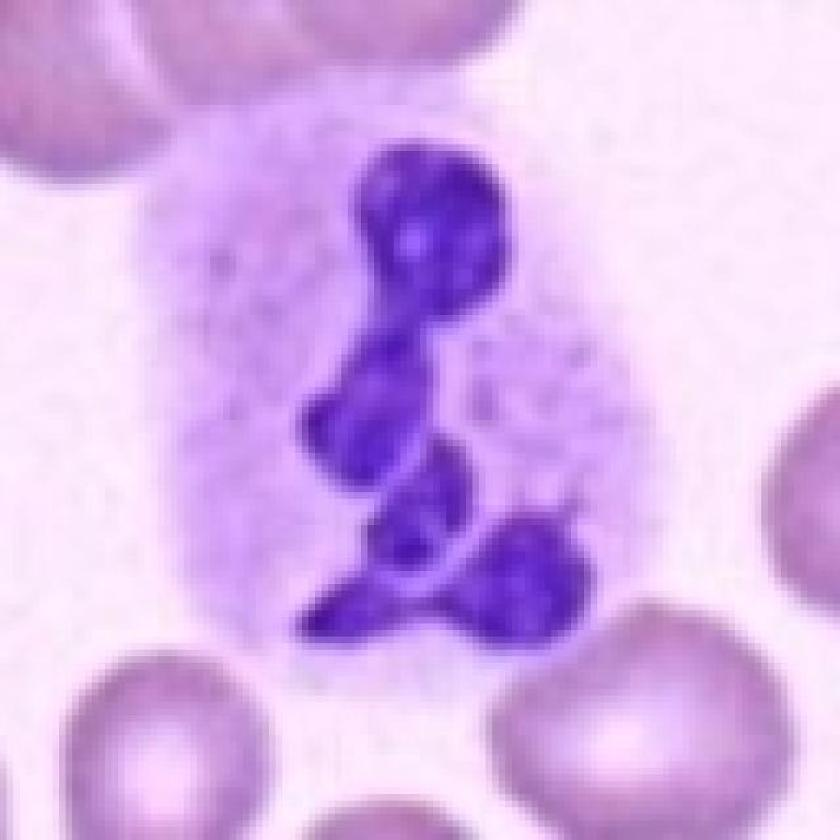neutrophil: (126, 79, 670, 705)
